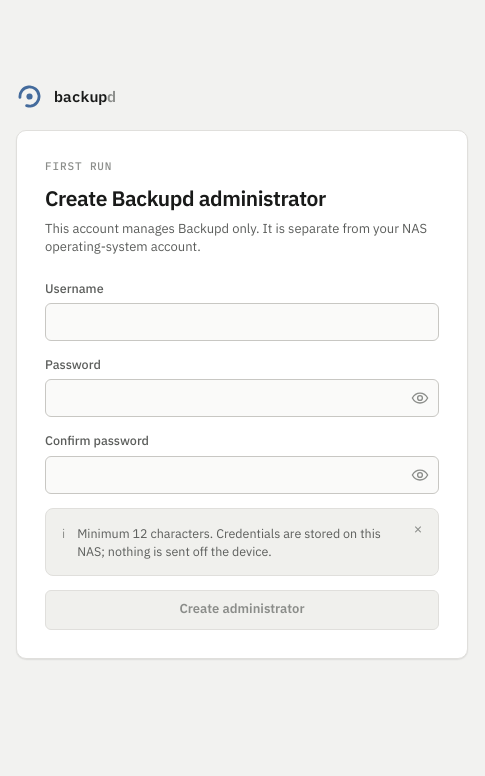
Test: enrolment says why it refused › tells a link with no token apart from a link whose token has lapsed
Type "bm-admin" into the field labelled "Username" at (242, 322), box [45,303,439,341]
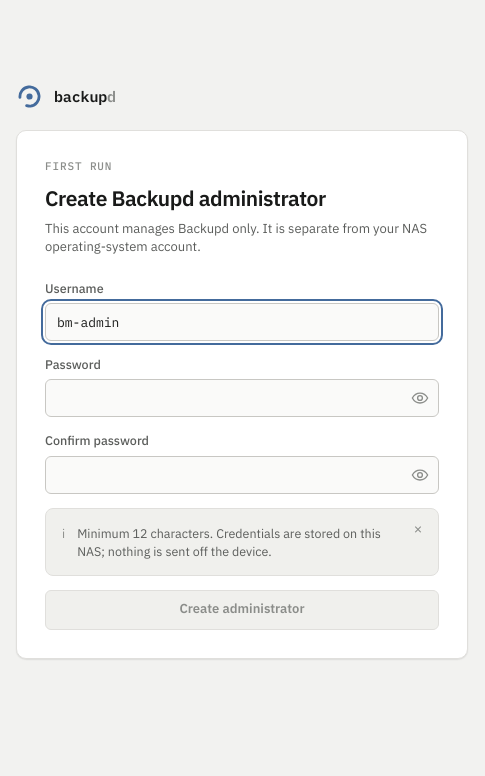
Type "a-long-enough-passphrase" into the password field labelled "Password" at (242, 398), box [45,380,439,418]
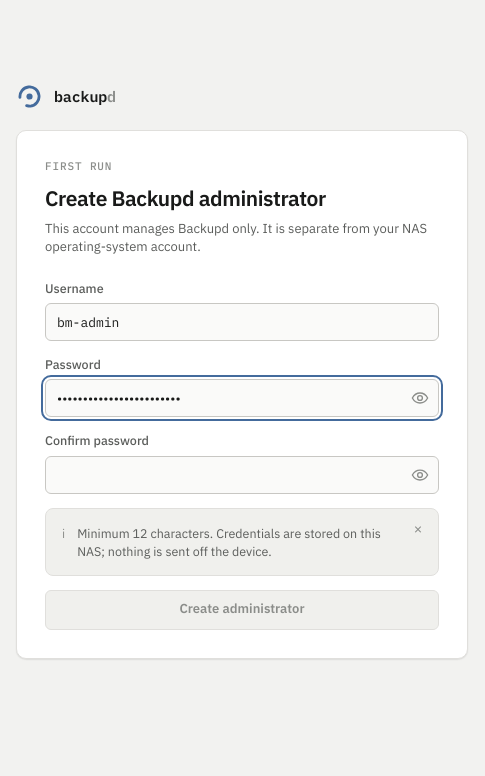
Type "a-long-enough-passphrase" into the password field labelled "Confirm password" at (242, 475), box [45,456,439,494]
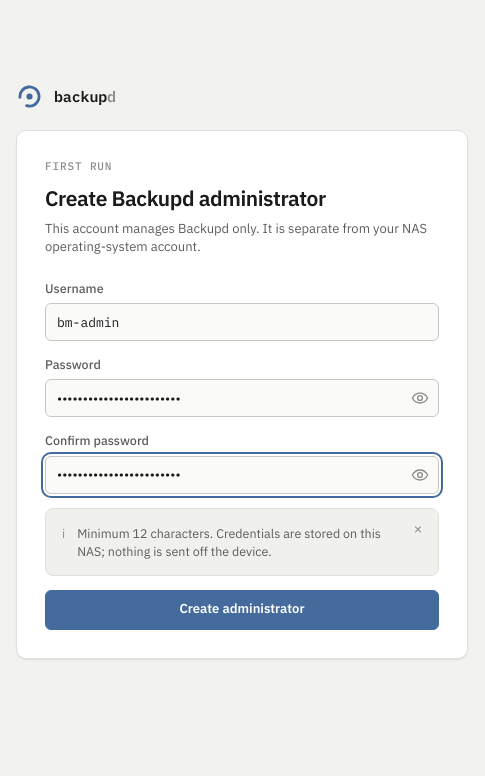
Click the button "Create administrator" at (242, 610), box [45,590,439,630]
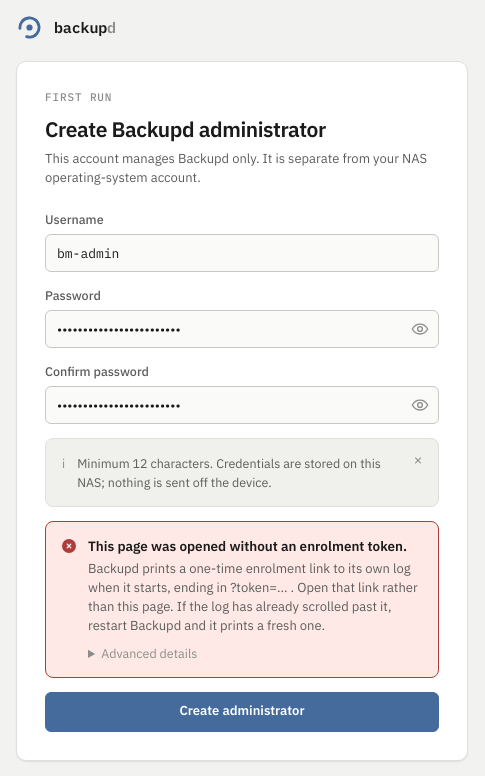
Result: the text "This page was opened without an enrolment token." is shown at [88,537,422,556]
Result: the text "?token=" is shown at [88,560,418,634]
